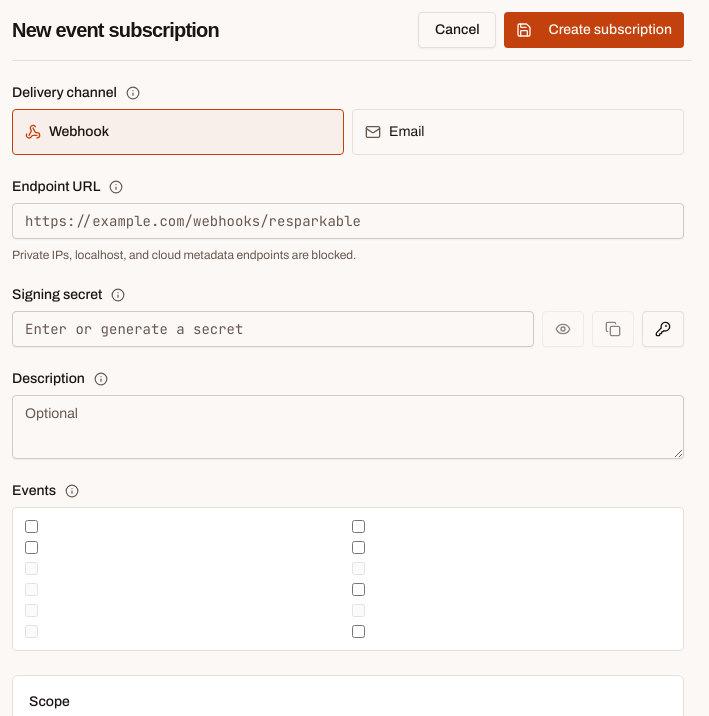
Scenario: WebhookForm › shows the capture cue as soon as the secret field has a value
This screenshot has width=709, height=716.
Expected: the text "copy this secret now" is not shown
Step 1. Click the button titled "generate a random secret" → (663, 329), box [642,311,684,347]
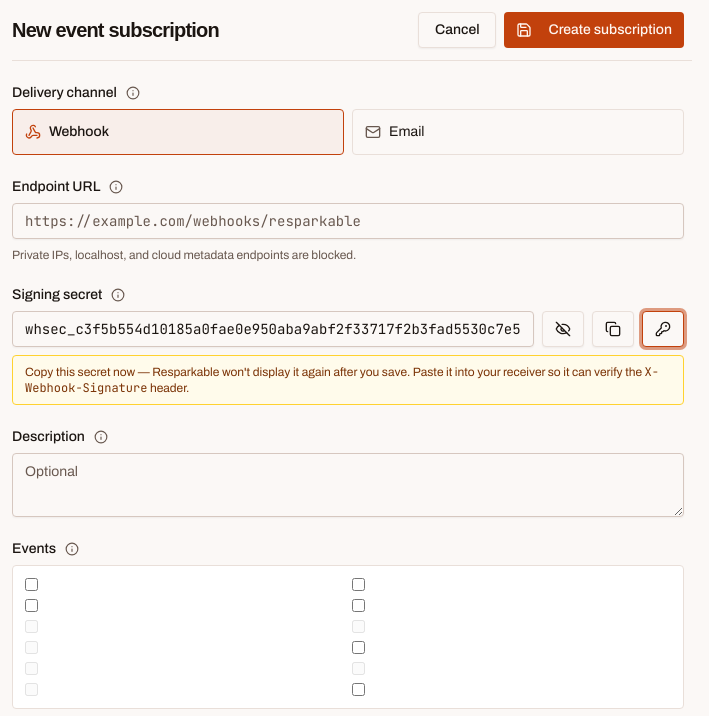
Expected: the text "Copy this secret now" is shown, [25,365,645,379]
